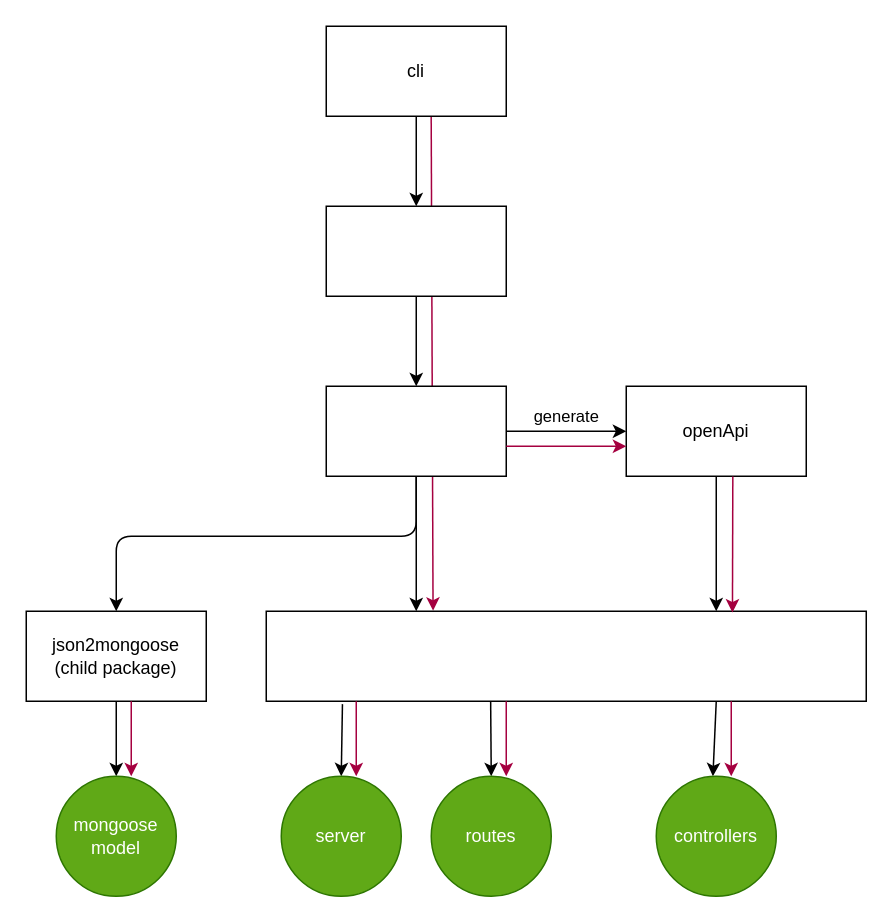
Some shapes in this 893 by 923 pixel diagram are drawn without their labels. Here are the shapes that lost their labels. From the top down, the centre of each, then its label:
the point at 415,250: engine (index)
the point at 415,430: jsonSchema
the point at 565,655: templates
